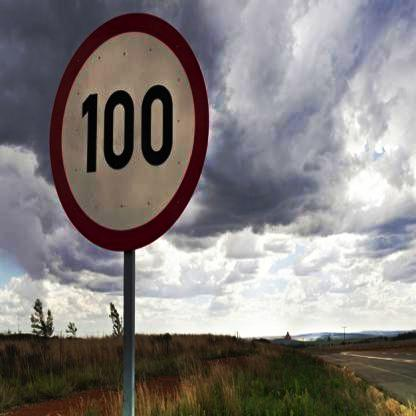Speed Limit -100-: (46, 6, 212, 258)
